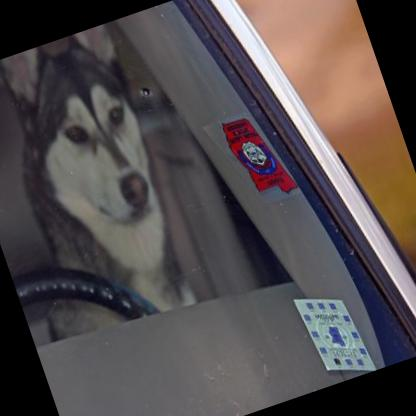Eskimo_dog: (0, 23, 203, 351)
